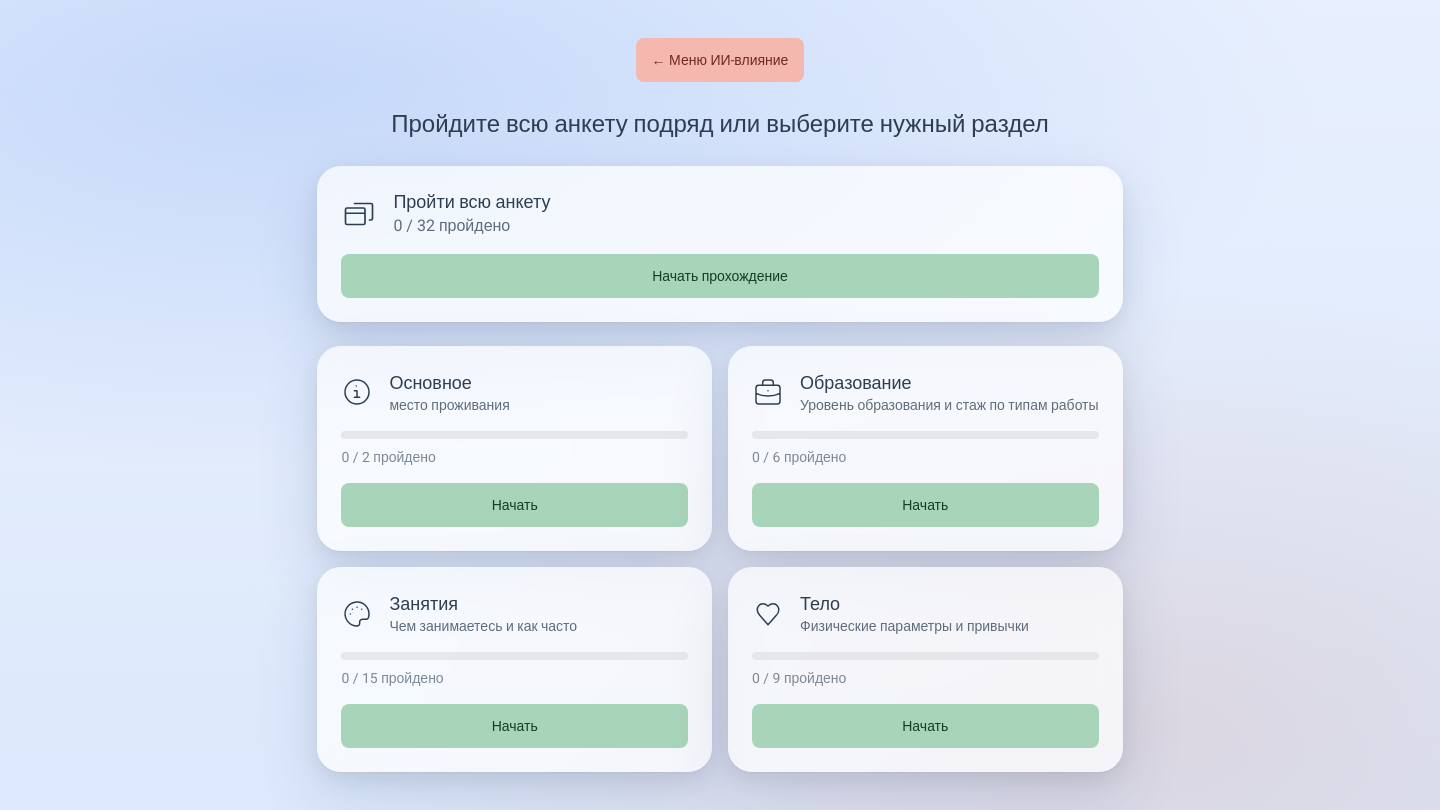
questionary hub — переход из ИИ (?from=ai) › при ?from=ai section-«Начать» кликается детерминированно (без .first())
Click the button "Начать" below "0 / 2 пройдено". click: (515, 505)
box: [341, 483, 688, 527]
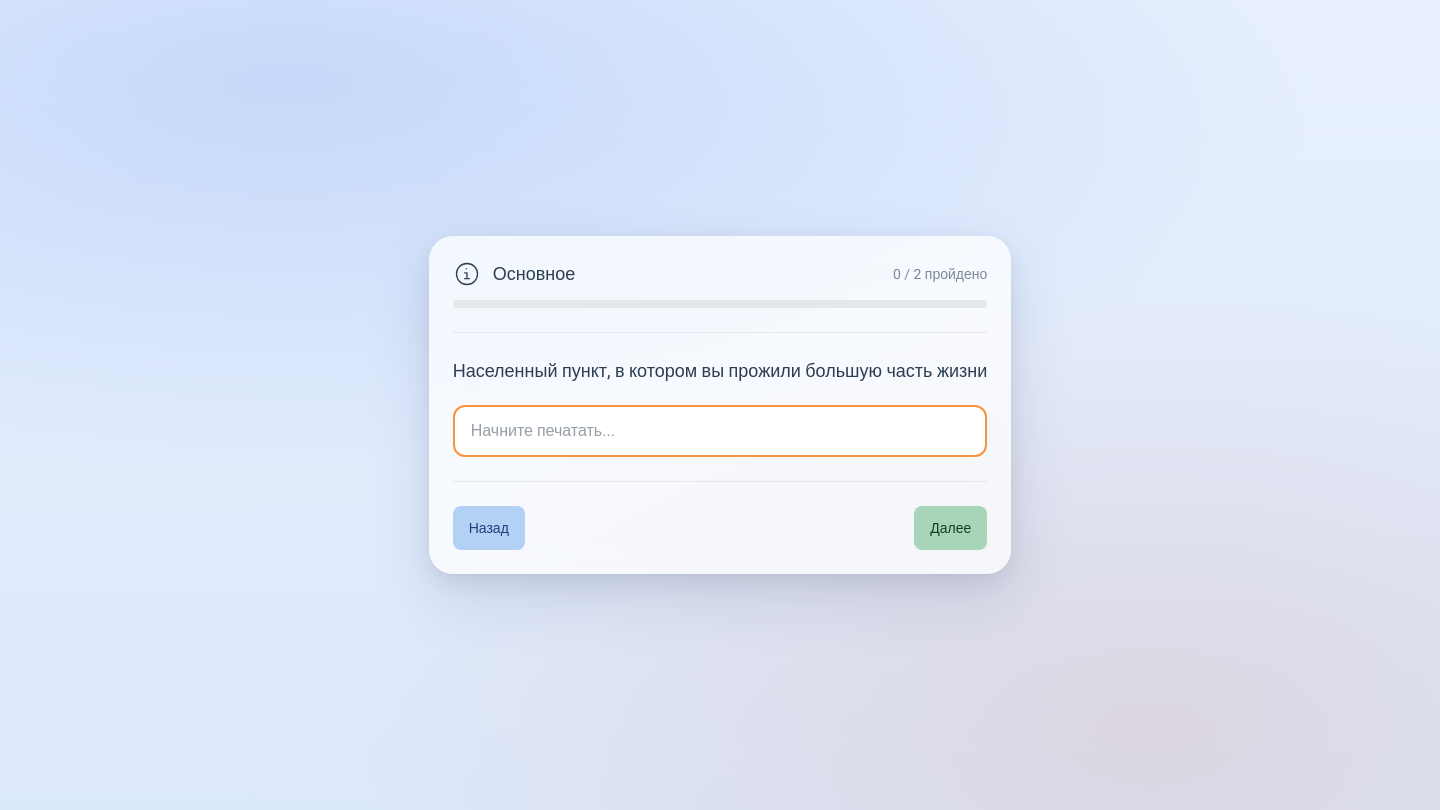
Expected: the button "Далее" is shown, [914, 506, 987, 550]
